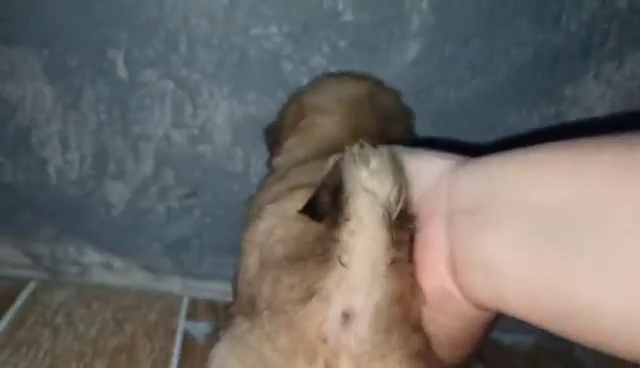dog: (203, 70, 448, 368)
